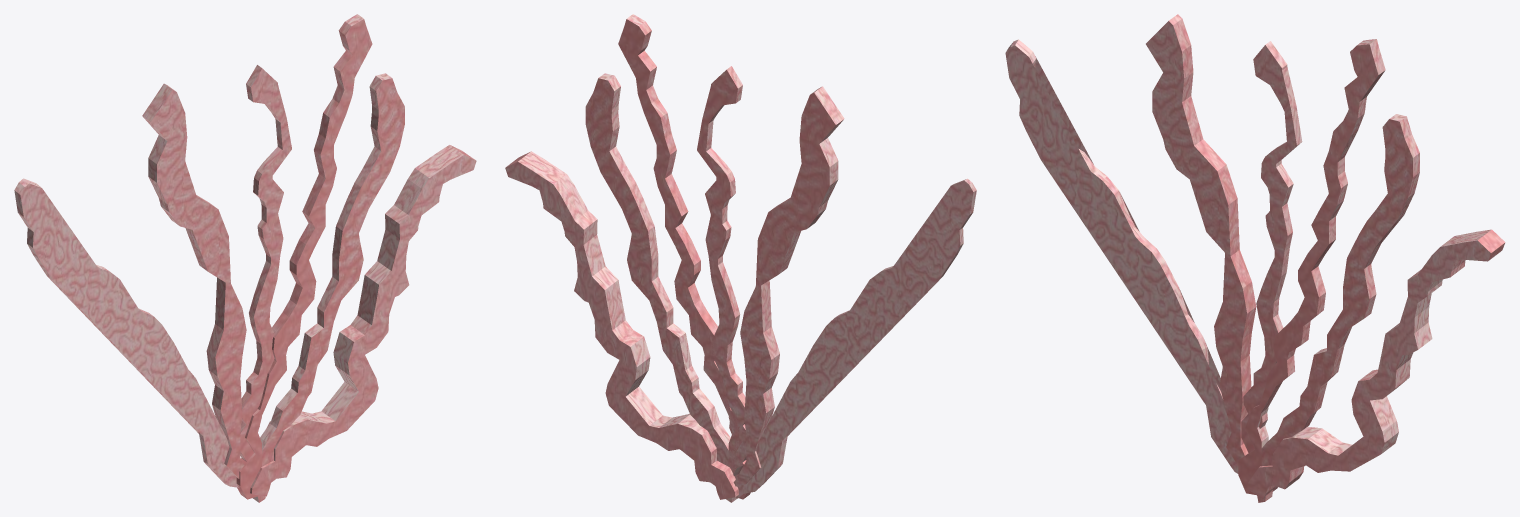
Rendered from newestCoralExport.fbx.
3 views of the same model, side by side, from view 1: azimuth 30°, elevation 25°; view 2: azimuth 150°, elevation 25°; view 3: azimuth 330°, elevation 25° (orthographic). The views are drawn at different scales.
Parts seen in each view (by area): view 1: polySurface8; view 2: polySurface8; view 3: polySurface8.
Part boxes in pixels (x1,y1,x2,y2): polySurface8: [14, 14, 476, 502]; polySurface8: [505, 14, 976, 502]; polySurface8: [1005, 14, 1505, 502].
Size of the model in its own units: 15.09 by 14.42 by 0.9528.
Materials: 1 (1 with a texture image).
